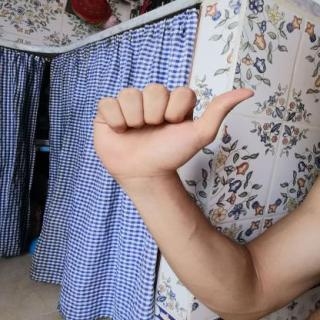DAD: (84, 78, 265, 184)
